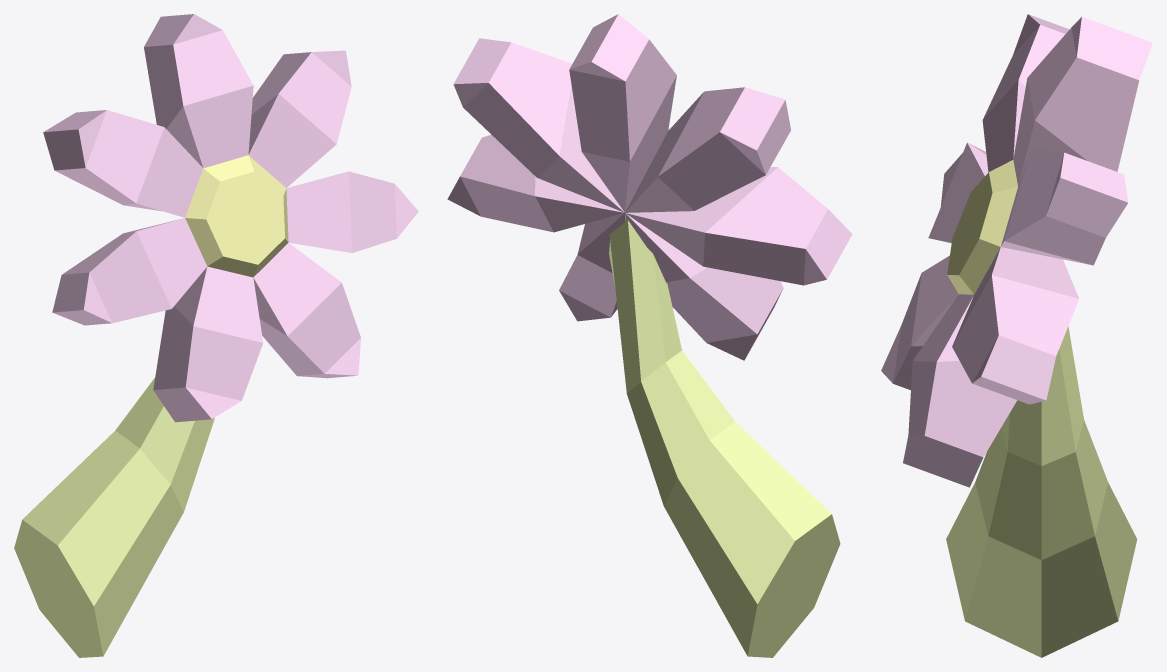
The model's file is Flower.fbx.
3 views of the same model, side by side, from view 1: azimuth 30°, elevation 25°; view 2: azimuth 150°, elevation 25°; view 3: azimuth 270°, elevation 25° (orthographic). The views are drawn at different scales.
Visible parts, largest first — view 1: Flower; view 2: Flower; view 3: Flower.
Part boxes in pixels (bbox=[...]): Flower: bbox=[14, 14, 418, 657]; Flower: bbox=[447, 14, 852, 657]; Flower: bbox=[881, 14, 1152, 657].
Size of the model in its own units: 4.24 by 6.86 by 2.35.
